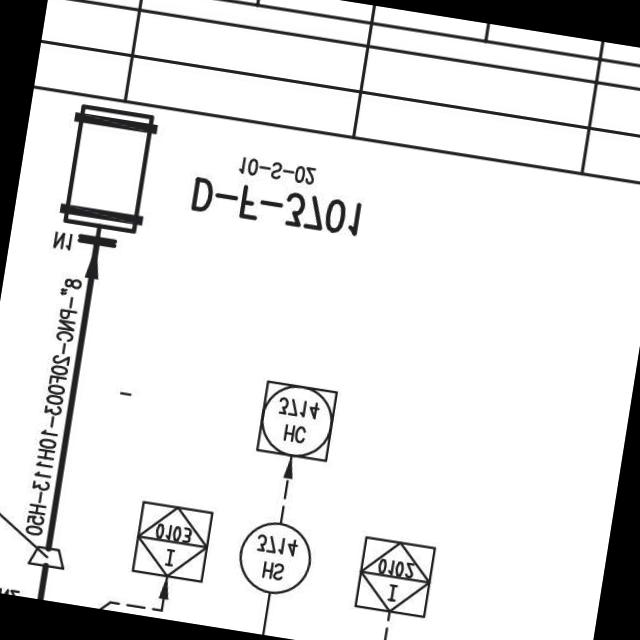D2: (51, 98, 168, 242)
